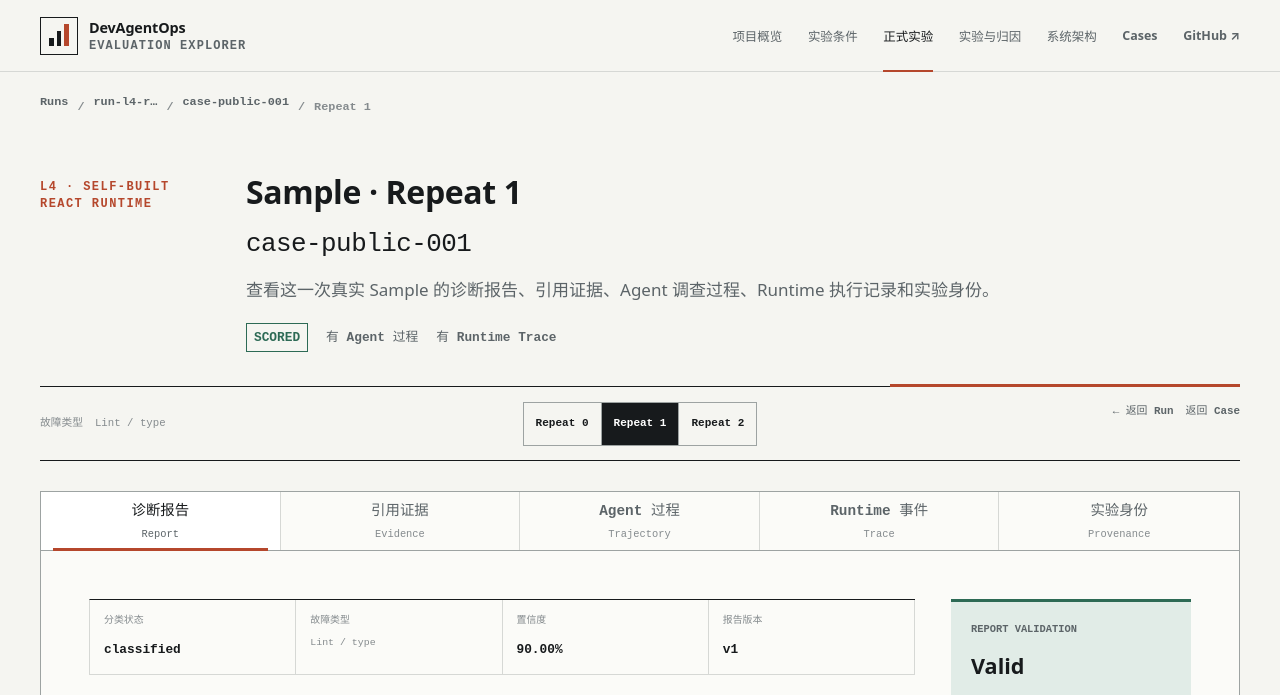
Test: Phase 2C public Evaluation Explorer › renders Structured Report and ordered cited Evidence without diagnostics
The image size is (1280, 695).
Check: the heading "Sample · Repeat 1" is shown, box [246,170,522,213]
Check: the link "case-public-001" is shown, box [182,95,289,109]
Step 1. Click the tab "引用证据 Evidence" → (400, 521), box [281,492,520,550]
(page scrolled)
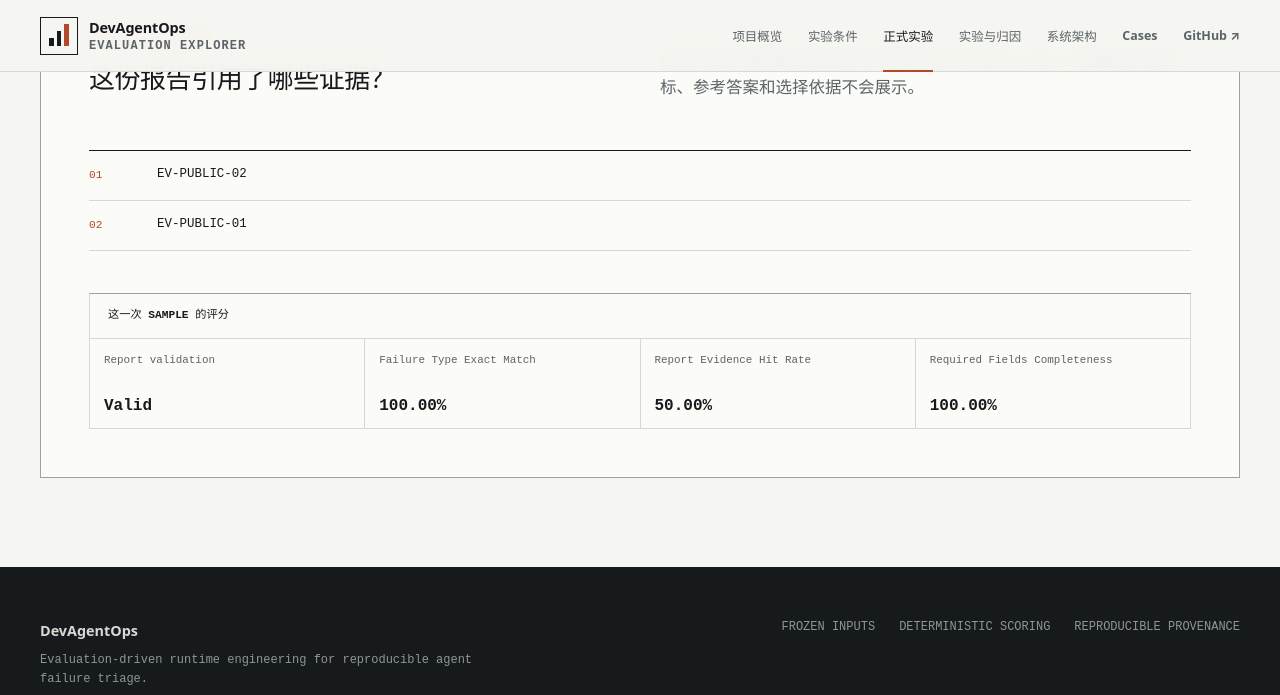
Check: the elements "EV-PUBLIC-" read "EV-PUBLIC-02", "EV-PUBLIC-01", in this order, box [157,167,247,181]; [157,217,247,231]
Check: the text "Failure Type Exact Match" is shown, box [379,354,536,366]
